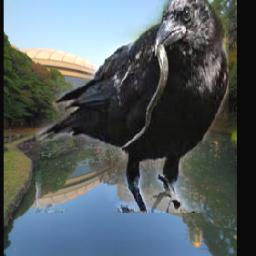Crow: (36, 0, 229, 214)
